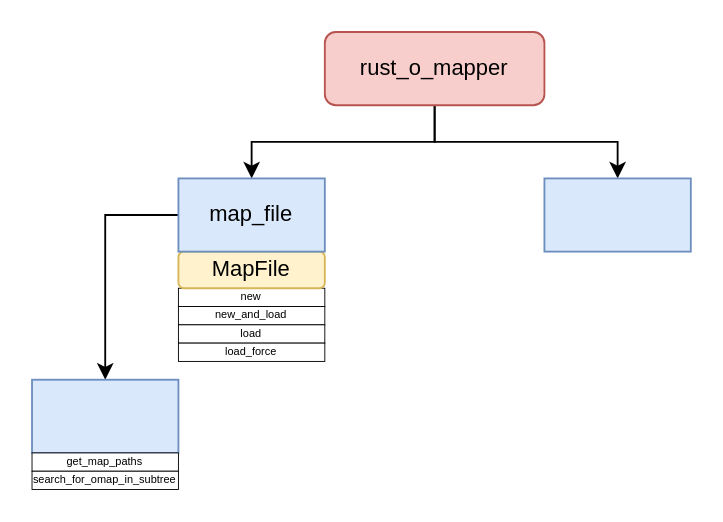
This 723x522 diagram has some shape labels left out. The centre of each missing label's shape, as x and y in pixels:
"map" belongs at (x=617, y=214).
"map_finder" belongs at (x=104, y=415).
